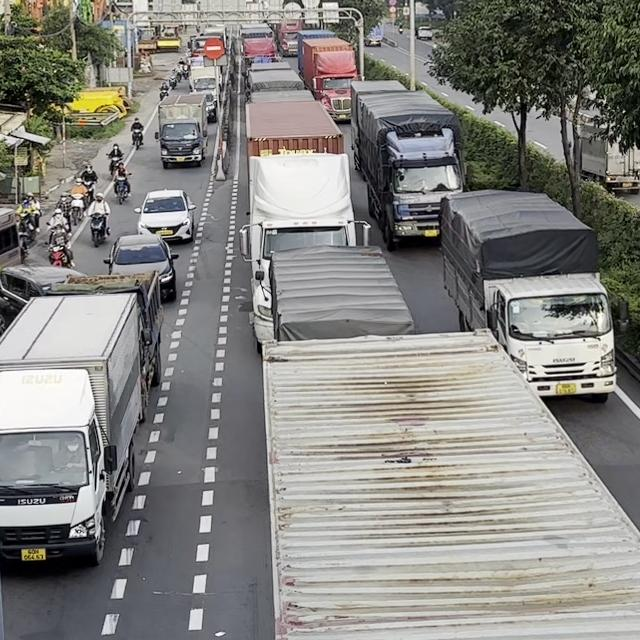car: (102, 233, 179, 302), (133, 188, 197, 244)
motorcycle: (88, 212, 110, 247), (47, 241, 74, 268), (112, 172, 132, 204), (76, 177, 94, 206), (69, 193, 85, 223), (106, 152, 123, 178), (130, 127, 143, 149), (158, 83, 169, 100)
truck: (259, 328, 639, 639), (0, 291, 145, 569), (438, 188, 622, 402), (238, 99, 372, 349), (349, 79, 467, 251), (251, 243, 415, 351), (297, 35, 360, 122), (157, 93, 206, 168)
